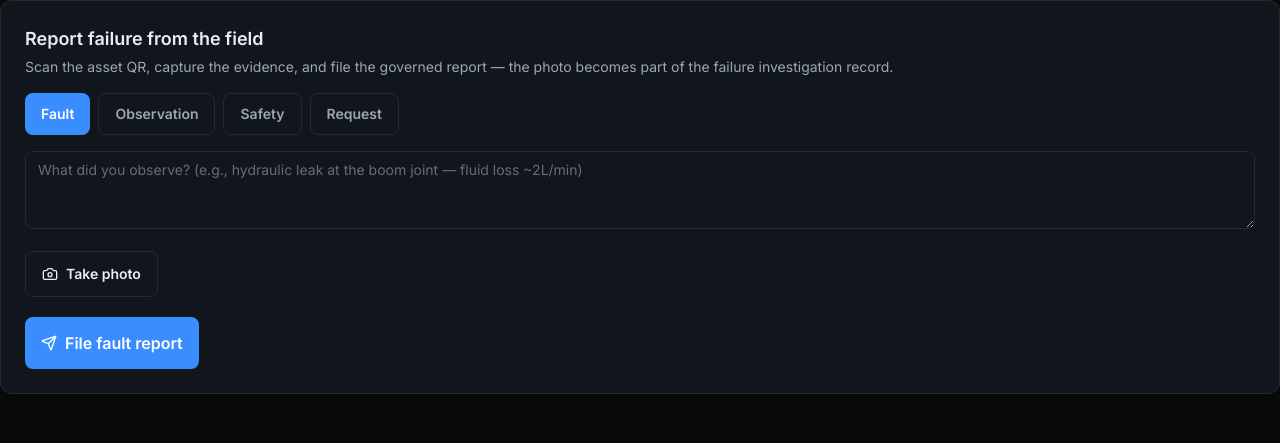
Test: FieldFailureCapture › refuses a report with no observation
The width and height of the screenshot is (1280, 443).
Click the button "File fault report": (112, 343) [25, 317, 199, 369]
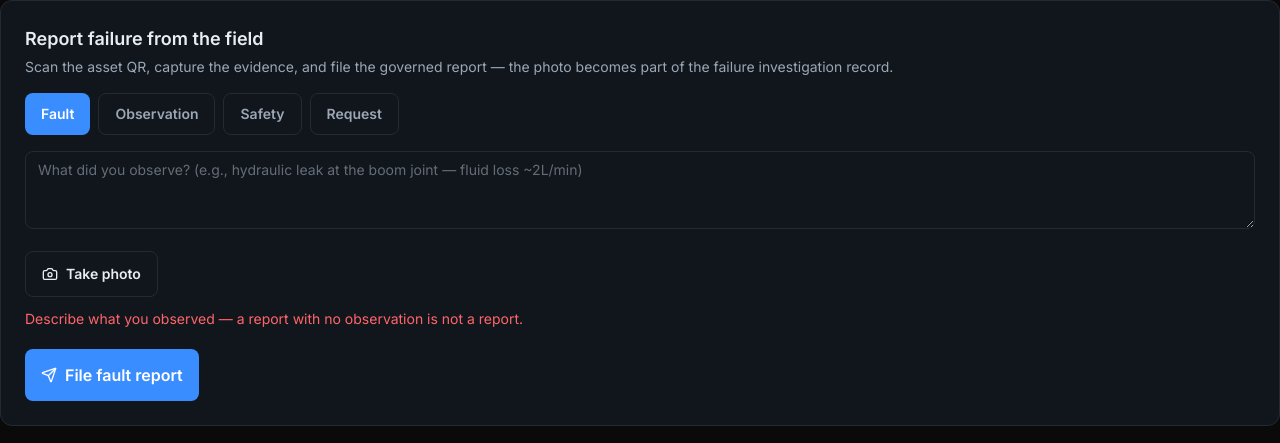
expect the text "Describe what you observed — a report with no observation is not a report." is shown: met, box [25, 310, 523, 327]
